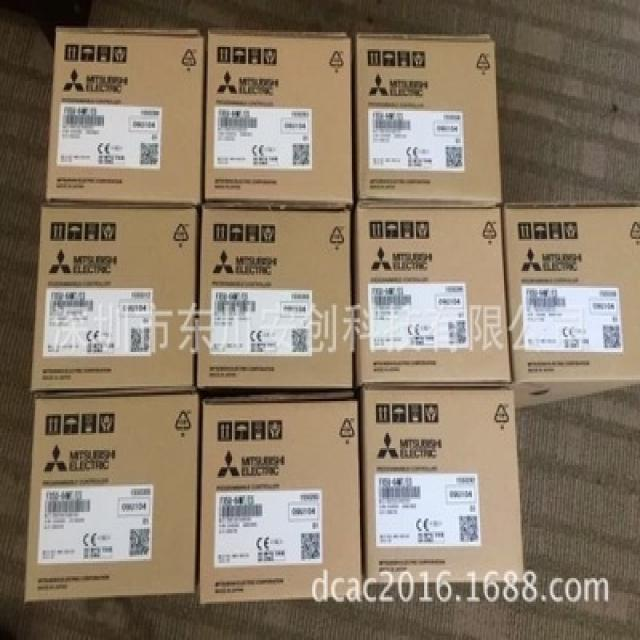box: (25, 389, 199, 605), (203, 394, 362, 602), (363, 388, 524, 583), (32, 203, 198, 390), (45, 26, 204, 208), (198, 206, 355, 390), (357, 204, 512, 389), (504, 205, 638, 409), (204, 30, 350, 204), (358, 34, 503, 204)
